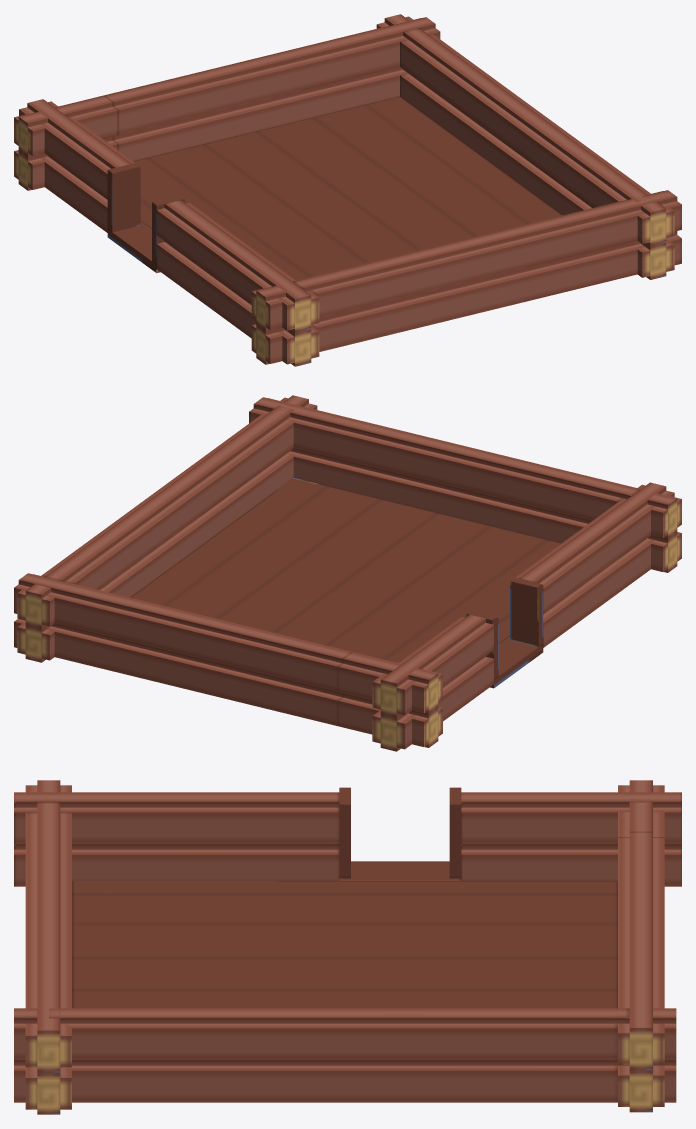
File: Fundament.fbx
The picture shows the model from 3 angles, top to bottom: view 1: azimuth 30°, elevation 25°; view 2: azimuth 150°, elevation 25°; view 3: azimuth 270°, elevation 25°; orthographic projection. The views are drawn at different scales.
Parts seen in each view (by area): view 1: cube_61, cube_58, cube_28, cube_52, cube_22, cube_43, cube_13, cube_57, cube_42, cube_51, cube_40, cube_10 (+17 smaller); view 2: cube_61, cube_59, cube_53, cube_23, cube_29, cube_43, cube_13, cube_57, cube_42, cube_51, cube_40, cube_10 (+19 smaller); view 3: cube_61, cube_14, cube_44, cube_41, cube_42, cube_11, cube_32, cube_57, cube_51, cube_2, cube_39, cube_12 (+14 smaller).
Part boxes in pixels (x1,y1,x2,y2): cube_61: (134,96,562,280); cube_58: (310,201,681,318); cube_28: (311,235,681,351); cube_52: (113,28,440,135); cube_22: (113,70,407,161); cube_43: (400,39,626,207); cube_13: (400,73,591,215); cube_57: (293,190,677,291); cube_42: (403,28,650,202); cube_51: (103,17,435,106); cube_40: (156,208,294,330); cube_10: (156,242,294,364); cube_61: (130,478,561,662); cube_59: (249,408,622,520); cube_53: (14,584,343,692); cube_23: (14,619,343,726); cube_29: (288,451,587,543); cube_43: (65,419,295,590); cube_13: (100,453,295,597); cube_57: (253,397,640,499); cube_42: (44,405,294,581); cube_51: (18,573,352,663); cube_40: (540,490,674,613); cube_10: (543,538,655,647); cube_61: (72,881,617,1008); cube_14: (66,1065,617,1102); cube_44: (66,1023,617,1059); cube_41: (14,807,339,843); cube_42: (49,1008,629,1060); cube_11: (14,849,339,885); cube_32: (461,807,681,843); cube_57: (37,802,60,1072); cube_51: (629,831,652,1070); cube_2: (461,849,681,885); cube_39: (14,792,339,844); cube_12: (72,1060,629,1102).
Bounding box in the file's own units: 638 × 100 × 719.
